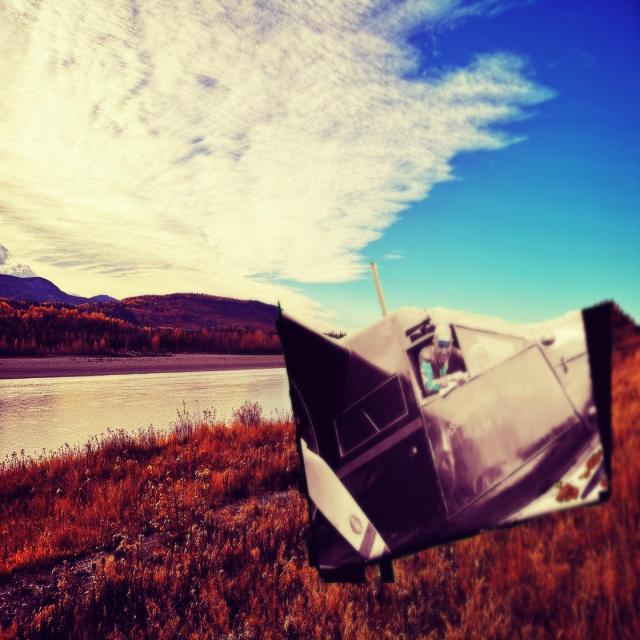airplane: (273, 263, 634, 583)
